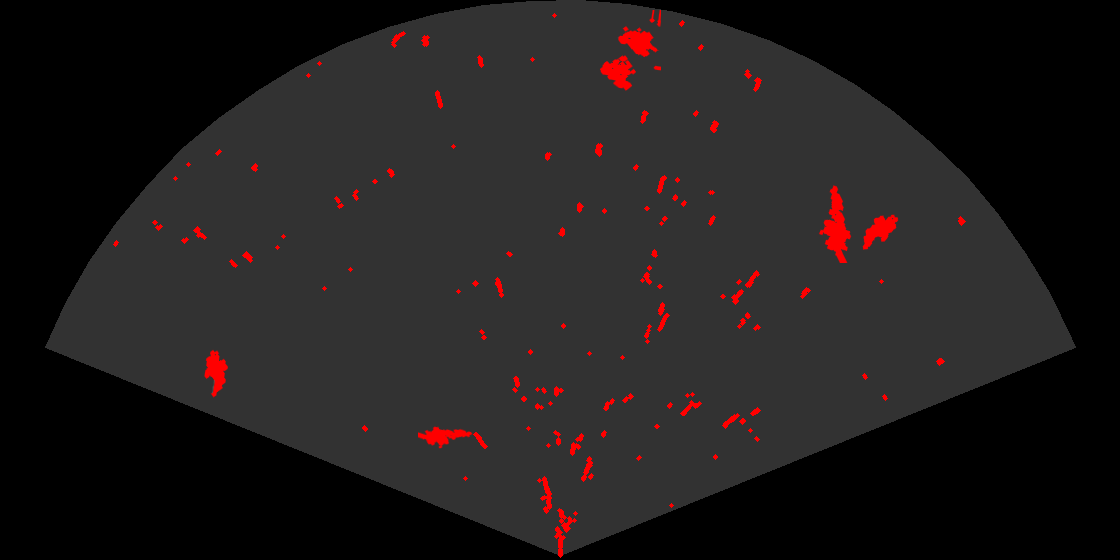AUV: (861, 213, 900, 251), (203, 348, 230, 399)
cage: (598, 10, 661, 92)
frogman: (817, 184, 853, 263), (418, 425, 473, 450)
